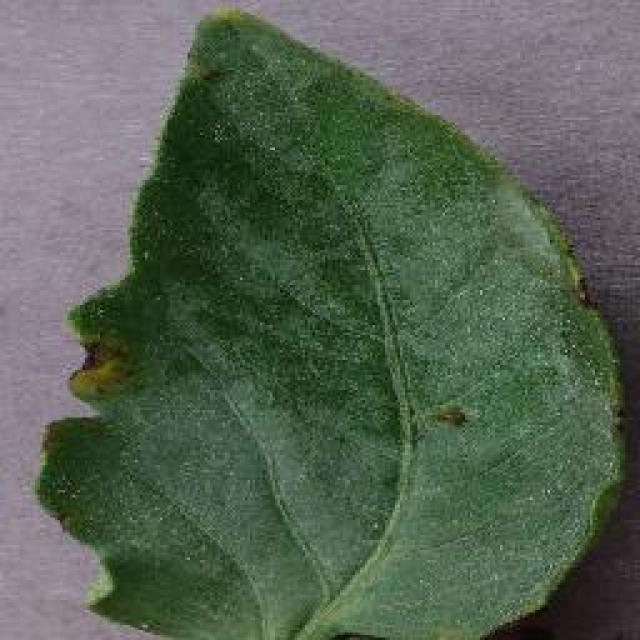Tomato bacterial spot leaf: (63, 17, 621, 640)
